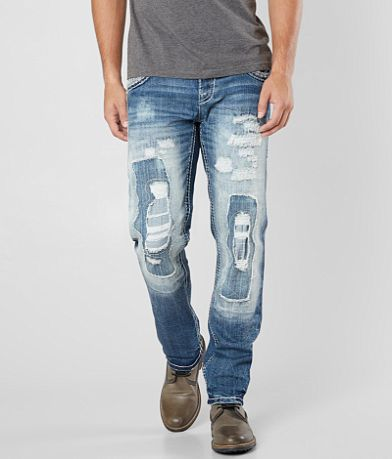jeans: (103, 65, 291, 410)
